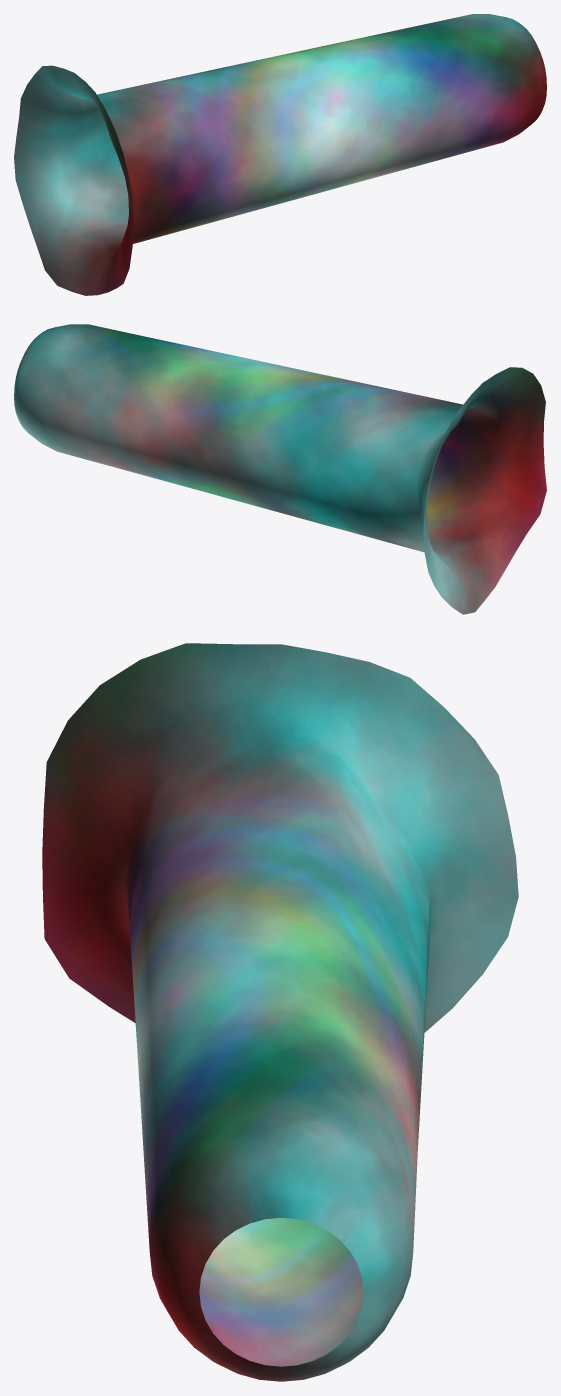
Rendered from RespawnTunnel.FBX.
3 renders of one model, top to bottom at view 1: azimuth 30°, elevation 25°; view 2: azimuth 150°, elevation 25°; view 3: azimuth 270°, elevation 25°, orthographic. The views are drawn at different scales.
Parts seen in each view (by area): view 1: RespawnTunnel; view 2: RespawnTunnel; view 3: RespawnTunnel.
Boxes of the visible parts, x1,y1,x2,y2 form: RespawnTunnel: (14, 14, 546, 295); RespawnTunnel: (14, 324, 546, 614); RespawnTunnel: (42, 643, 518, 1381).
Bounding box in the file's own units: 6300 × 2912 × 2868.
